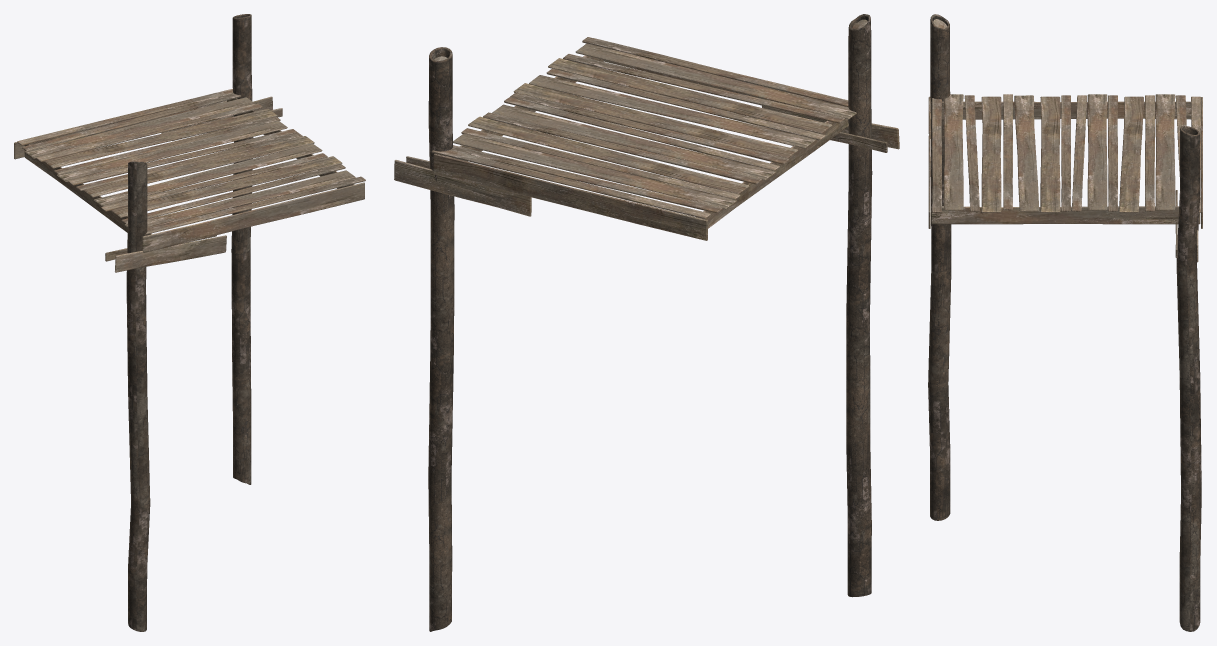
File: SM_Gangway_07.fbx
The picture shows the model from 3 angles, left to right: view 1: azimuth 30°, elevation 25°; view 2: azimuth 150°, elevation 25°; view 3: azimuth 270°, elevation 25°; orthographic projection. The views are drawn at different scales.
Visible parts, largest first — view 1: SM_Gangway_07_LOD0; view 2: SM_Gangway_07_LOD0; view 3: SM_Gangway_07_LOD0.
Boxes of the visible parts, box(x1,y1,x2,y2) form: SM_Gangway_07_LOD0: box(14, 14, 365, 631); SM_Gangway_07_LOD0: box(394, 14, 899, 631); SM_Gangway_07_LOD0: box(928, 14, 1202, 631).
Size of the model in its own units: 511 by 404 by 817.
3 materials, 3 textured.
